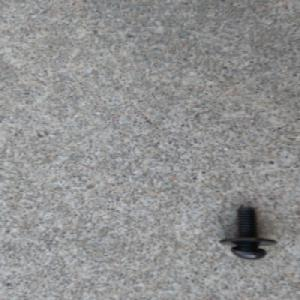BoltWasher: (218, 204, 279, 260)
